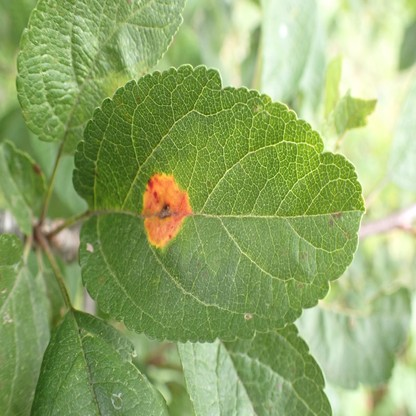rust: (143, 174, 190, 248)
